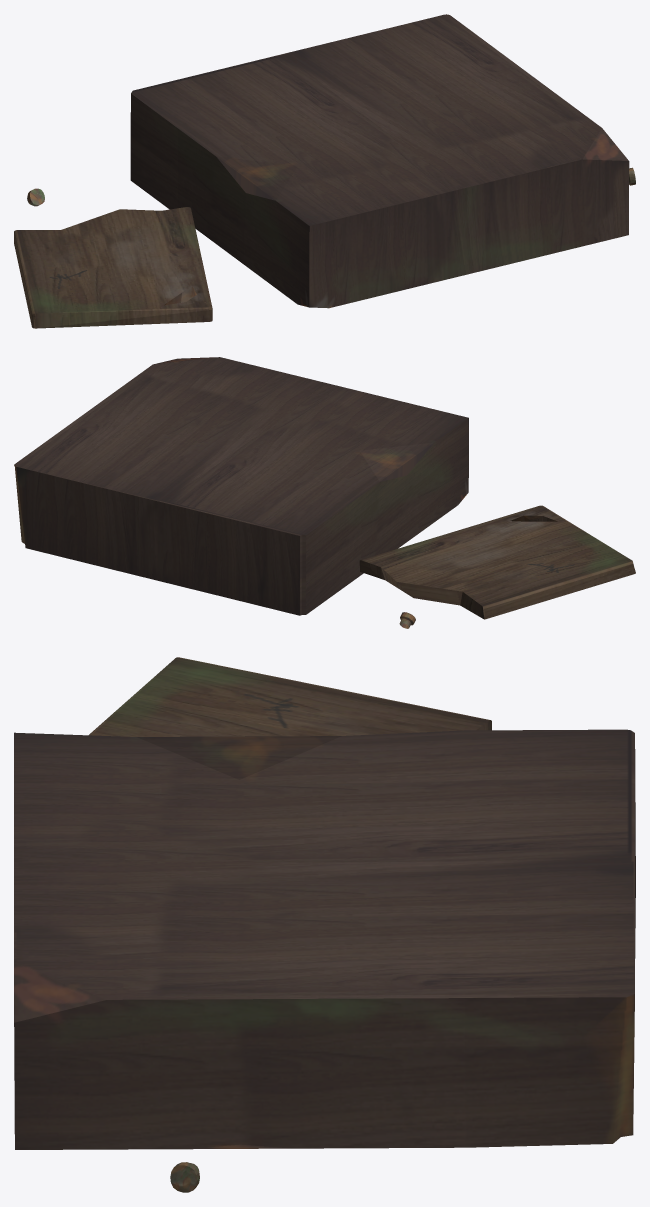
Rendered from CajoneraBrkn.fbx.
The picture shows the model from 3 angles, top to bottom: view 1: azimuth 30°, elevation 25°; view 2: azimuth 150°, elevation 25°; view 3: azimuth 270°, elevation 25°; orthographic projection. The views are drawn at different scales.
Visible parts, largest first — view 1: Cube.016; view 2: Cube.016; view 3: Cube.016.
Boxes of the visible parts, x1=… form: Cube.016: x1=14, y1=14, x2=635, y2=328; Cube.016: x1=14, y1=357, x2=635, y2=628; Cube.016: x1=14, y1=657, x2=635, y2=1192.
Size of the model in its own units: 322 by 45.75 by 167.
1 material, 1 textured.
